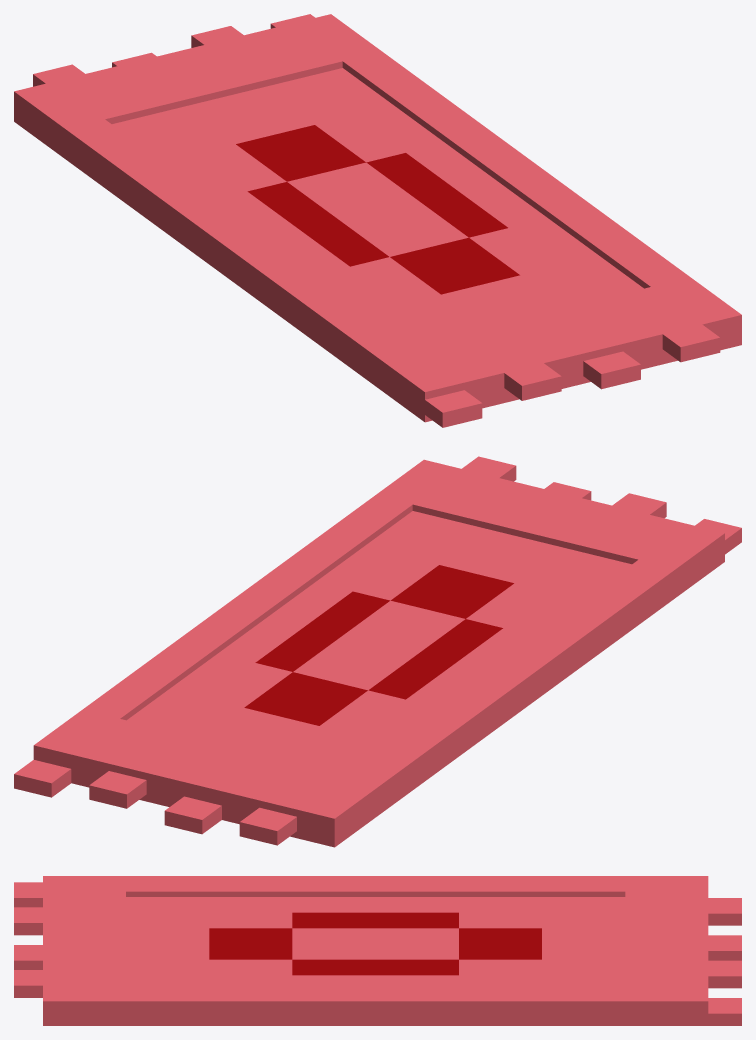
The model's file is Ticket.fbx.
3 renders of one model, top to bottom at view 1: azimuth 30°, elevation 25°; view 2: azimuth 150°, elevation 25°; view 3: azimuth 270°, elevation 25°, orthographic. The views are drawn at different scales.
Visible parts, largest first — view 1: Cube; view 2: Cube; view 3: Cube.
Boxes of the visible parts, x1,y1,x2,y2 form: Cube: (14, 14, 741, 427); Cube: (14, 456, 741, 847); Cube: (14, 876, 741, 1025).
Bounding box in the file's own units: 25 × 2.28 × 61.41.
